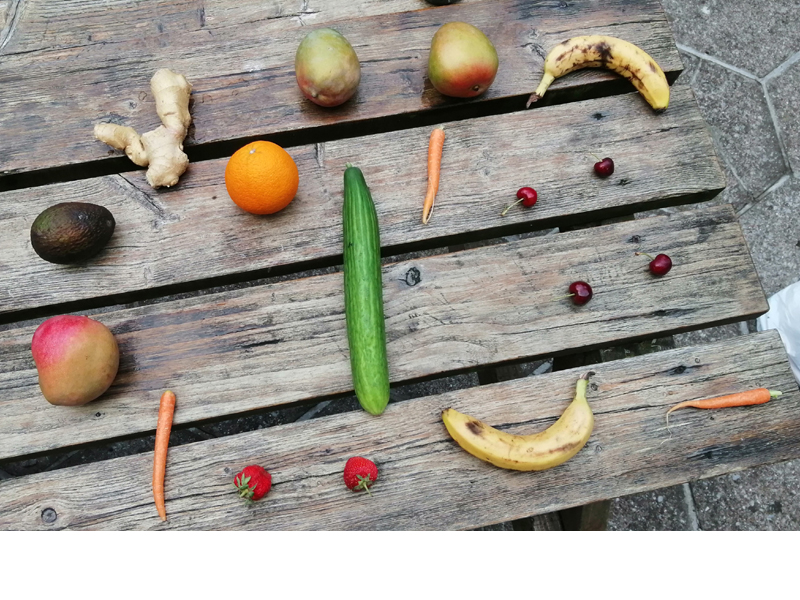avocado: (26, 194, 119, 274)
banana: (431, 370, 602, 476), (522, 22, 675, 122)
carrot: (663, 383, 787, 424), (147, 379, 180, 528)
cherry: (636, 239, 677, 282), (500, 184, 540, 225), (548, 280, 598, 309), (586, 143, 619, 180)
cucumber: (333, 157, 397, 418)
ginger: (88, 64, 200, 193)
mango: (27, 311, 128, 409), (420, 16, 499, 99), (291, 25, 361, 107)
orange: (219, 136, 308, 217)
strawberry: (332, 452, 386, 499), (225, 461, 278, 505)
